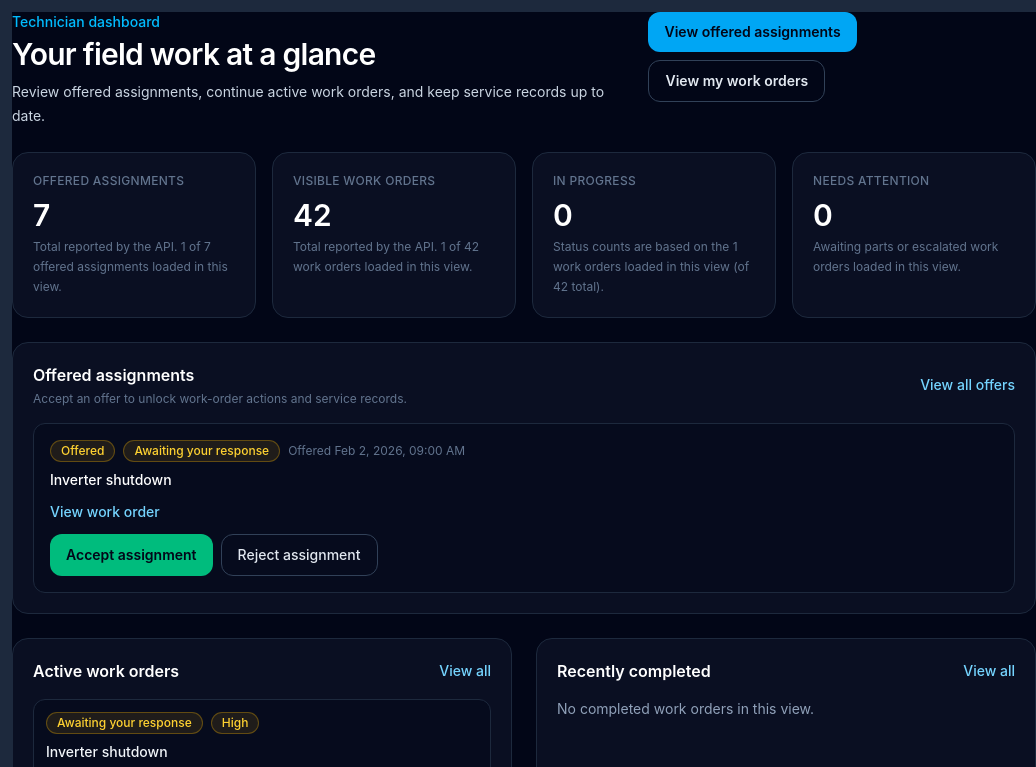
Test: technician dashboard uses API totals and accepts an offer
Expected: the heading "Your field work at a glance" is shown, [12,36,375,72]
Expected: the text "Total reported by the API. 1 of 7 offered assignments loaded in this view." is shown, [33,237,235,297]
Click the button "Accept assignment" at point(131, 555), box [50,534,213,576]
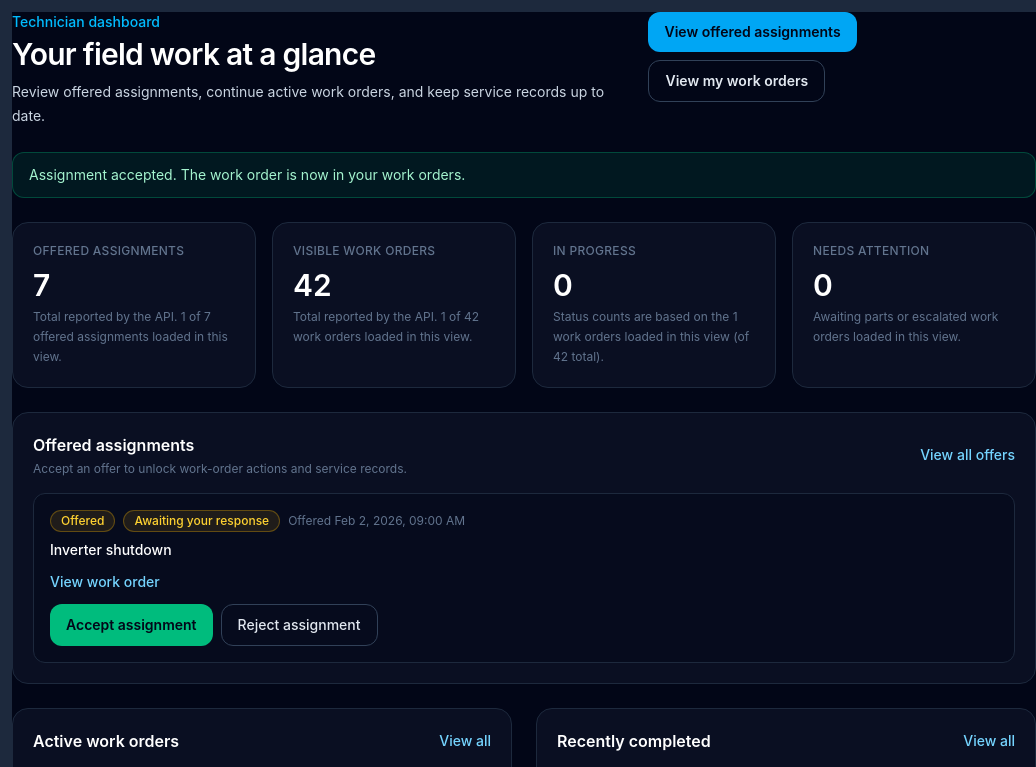
Expected: the text "Assignment accepted. The work order is now in your work orders." is shown, [12,152,1035,198]
